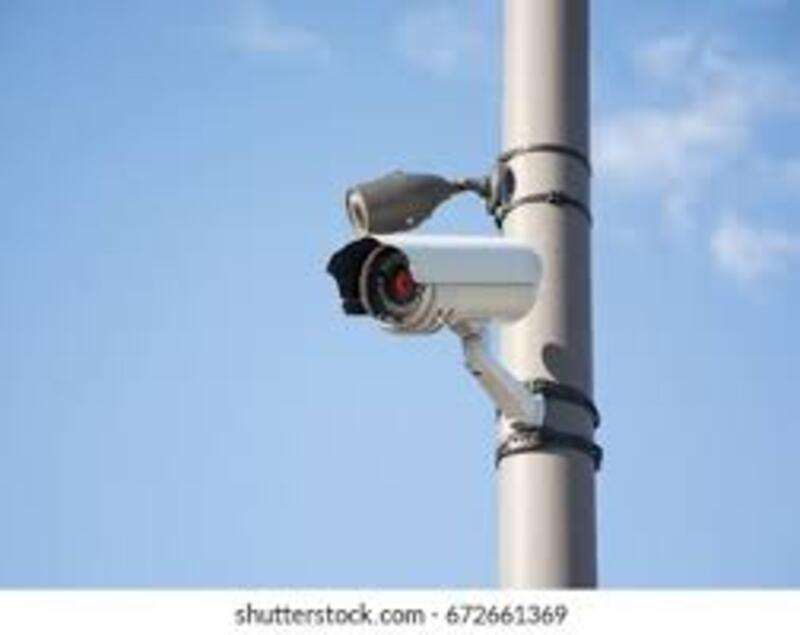box: (320, 245, 551, 327)
bullet: (327, 165, 450, 226)
